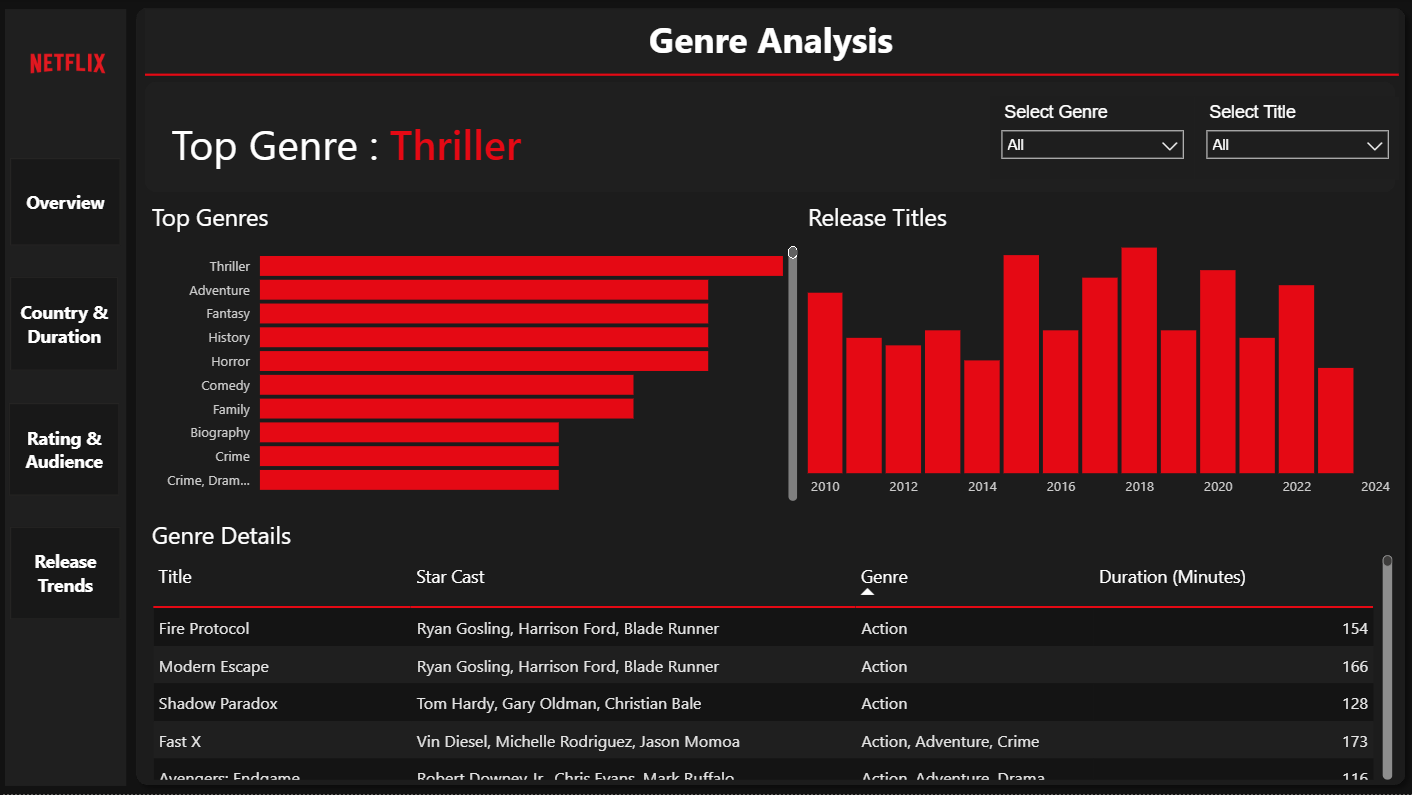

What the dashboard file says about the page in this screenshot:
{"tool":"powerbi","page":{"name":"Genre Analysis","canvas":[1280,720],"ordinal":1},"visuals":[{"type":"shape","box":[114.1,0,1165.9,720.7],"z":0},{"type":"shape","box":[131.5,9.7,1134.1,57.9],"z":1000},{"type":"clusteredColumnChart","title":"Release Titles","fields":{"Category":["Nithish.Release Date.Variation.Date Hierarchy.Year","Nithish.Release Date.Variation.Date Hierarchy.Quarter","Nithish.Release Date.Variation.Date Hierarchy.Month","Nithish.Release Date.Variation.Date Hierarchy.Day"],"Y":["CountNonNull(Nithish.Title)"]},"box":[726.3,183.7,538.4,276.9],"z":2000},{"type":"clusteredBarChart","title":"Top Genres","fields":{"Category":["Nithish.Genre"],"Y":["Measures Table.Total Titles"]},"box":[132.2,183.7,594.1,276.9],"z":3000},{"type":"textbox","box":[547.7,9.7,300.4,57.9],"z":4000},{"type":"cardVisual","title":"Total Titles","fields":{"Data":["Measures Table.Top Genre"]},"box":[114.1,58.4,1165.9,135],"z":5000},{"type":"tableEx","title":"Genre Details","fields":{"Values":["Nithish.Title","Nithish.Star Cast","Nithish.Genre","Sum(Nithish.Total Runtime (Minutes))"]},"box":[132.2,470.3,1132.5,242.1],"z":6000},{"type":"shape","box":[131.5,0,1134.1,138.7],"z":7000},{"type":"shape","box":[4.2,9.7,109.9,702.6],"z":8000},{"type":"actionButton","box":[9.3,478.8,100.2,83.9],"z":9000},{"type":"actionButton","box":[8.2,366.2,100.2,83.9],"z":10000},{"type":"actionButton","box":[9.3,252.4,97.9,85],"z":11000},{"type":"actionButton","box":[9.3,144.4,100.2,79.2],"z":12000},{"type":"slicer","fields":{"Values":["Nithish.Genre"]},"box":[896,89,185,75.1],"z":13000},{"type":"slicer","fields":{"Values":["Nithish.Title"]},"box":[1081,89,185,75.1],"z":14000},{"type":"image","box":[0,0,122.4,124.7],"z":15000}]}

Visuals, with their boxes in screenshot pixels (x1, y1, x2, y2), scaled from the page's 1280x720 canvas onto the 1412x795 screenshot:
shape: (x1=126, y1=0, x2=1411, y2=794)
shape: (x1=145, y1=11, x2=1396, y2=75)
"Release Titles" clusteredColumnChart: (x1=801, y1=203, x2=1395, y2=509)
"Top Genres" clusteredBarChart: (x1=146, y1=203, x2=801, y2=509)
textbox: (x1=604, y1=11, x2=936, y2=75)
"Total Titles" cardVisual: (x1=126, y1=64, x2=1411, y2=214)
"Genre Details" tableEx: (x1=146, y1=519, x2=1395, y2=787)
shape: (x1=145, y1=0, x2=1396, y2=153)
shape: (x1=5, y1=11, x2=126, y2=786)
actionButton: (x1=10, y1=529, x2=121, y2=621)
actionButton: (x1=9, y1=404, x2=120, y2=497)
actionButton: (x1=10, y1=279, x2=118, y2=373)
actionButton: (x1=10, y1=159, x2=121, y2=247)
slicer - Nithish.Genre: (x1=988, y1=98, x2=1192, y2=181)
slicer - Nithish.Title: (x1=1192, y1=98, x2=1397, y2=181)
image: (x1=0, y1=0, x2=135, y2=138)
